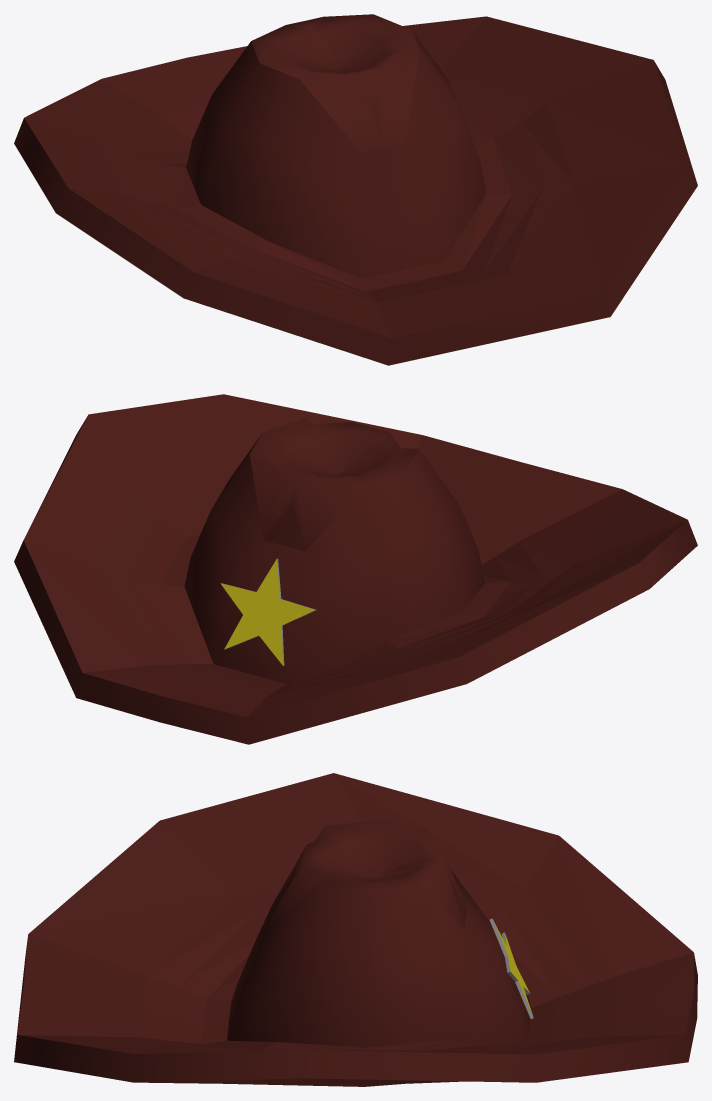
The model's file is kapelusz z gwiazdką.FBX.
3 renders of one model, top to bottom at view 1: azimuth 30°, elevation 25°; view 2: azimuth 150°, elevation 25°; view 3: azimuth 270°, elevation 25°, orthographic.
Visible parts, largest first — view 1: Cylinder004; view 2: Cylinder004; view 3: Cylinder004.
Boxes of the visible parts, box(x1,y1,x2,y2) form: Cylinder004: box(14, 14, 697, 365); Cylinder004: box(14, 394, 697, 744); Cylinder004: box(14, 773, 697, 1086).
Size of the model in its own units: 145 by 46.08 by 145.
